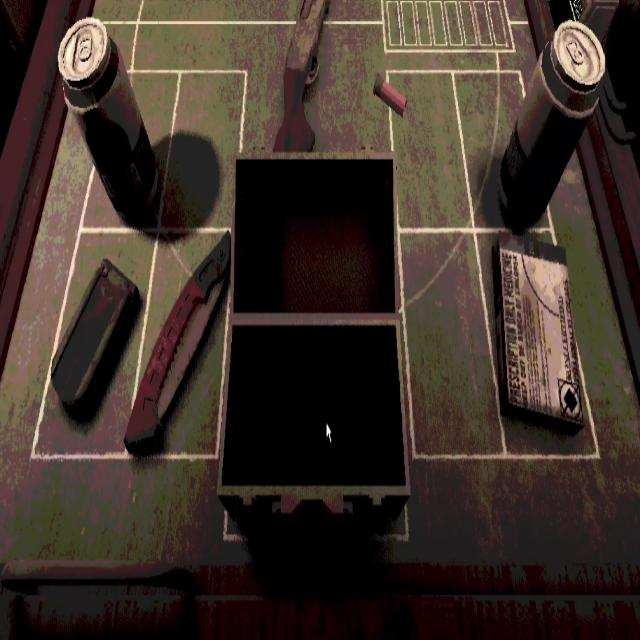can: (500, 0, 606, 229), (58, 18, 161, 228)
doubledamage: (124, 231, 230, 456)
expired-medicine: (492, 233, 585, 433)
inventorybox: (220, 153, 409, 509)
phone: (50, 259, 138, 421)
